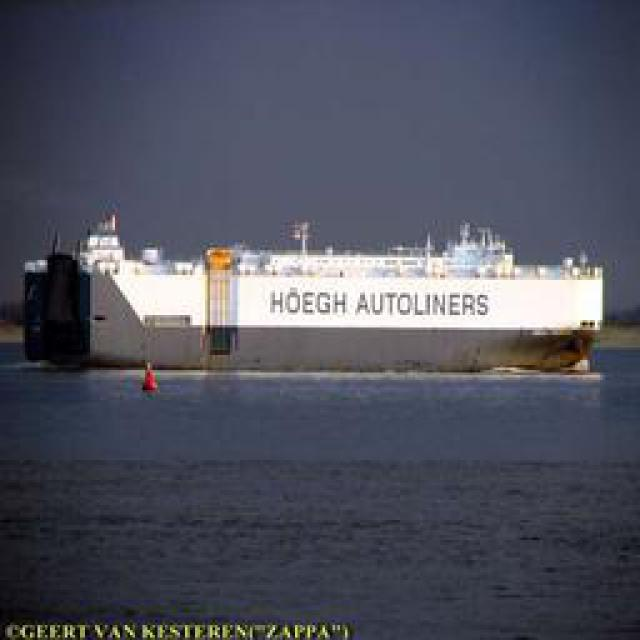Ship: (15, 239, 603, 372)
